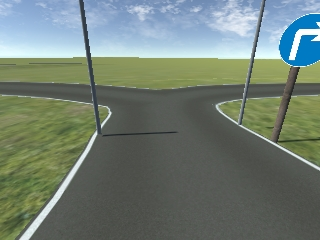right: (281, 13, 320, 67)
